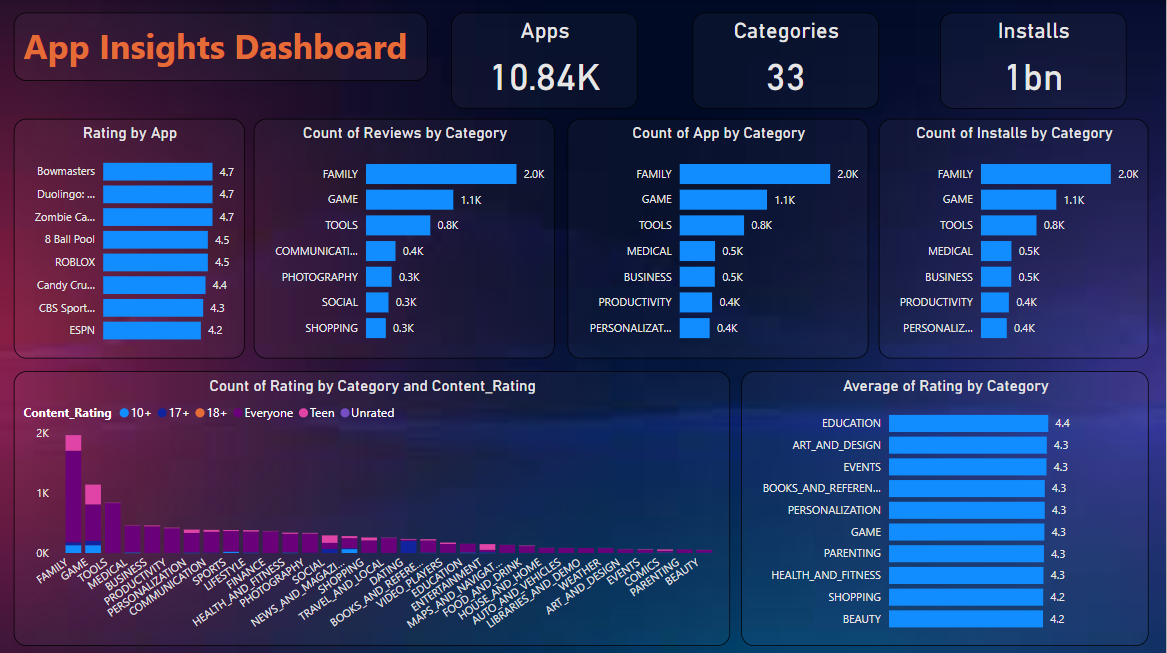

Layout of this report page (visuals, bound fields, positions):
{"tool":"powerbi","page":{"name":"Page 1","canvas":[1280,720],"ordinal":0},"visuals":[{"type":"clusteredBarChart","title":"Rating by App","fields":{"Y":["Avg(Sheet1.Rating)"],"Category":["Sheet1.App"]},"box":[15.1,130.4,253.9,229.2],"z":0},{"type":"clusteredBarChart","fields":{"Category":["Sheet1.Category"],"Y":["CountNonNull(Sheet1.App)"]},"box":[623,130.4,330.7,229.2],"z":1000},{"type":"clusteredBarChart","fields":{"Category":["Sheet1.Category"],"Y":["CountNonNull(Sheet1.Installs)"]},"box":[964.7,130.4,296.4,229.2],"z":2000},{"type":"clusteredBarChart","fields":{"Category":["Sheet1.Category"],"Y":["CountNonNull(Sheet1.Reviews)"]},"box":[278.6,130.4,330.7,229.2],"z":3000},{"type":"columnChart","fields":{"Category":["Sheet1.Category"],"Y":["CountNonNull(Sheet1.Rating)"],"Series":["Sheet1.Content_Rating"]},"box":[15.1,374.6,786.3,334.8],"z":4000},{"type":"clusteredBarChart","fields":{"Category":["Sheet1.Category"],"Y":["Avg(Sheet1.Rating)"]},"box":[813.7,374.6,466.6,334.8],"z":5000},{"type":"textbox","box":[15.1,28.8,454.2,90.6],"z":6000},{"type":"card","title":"Apps","fields":{"Values":["CountNonNull(Sheet1.App)"]},"box":[495.4,13.7,204.5,105.7],"z":7000},{"type":"card","title":"Categories","fields":{"Values":["Count(Sheet1.Category)"]},"box":[760.2,13.7,204.5,105.7],"z":8000},{"type":"card","title":"Installs","fields":{"Values":["Max(Sheet1.Installs)"]},"box":[1031.9,13.7,204.5,105.7],"z":9000}]}

Visuals, with their boxes in screenshot pixels (x1, y1, x2, y2), scaled from the page's 1280x720 canvas onto the 1167x653 screenshot:
"Rating by App" clusteredBarChart: x1=14 y1=118 x2=245 y2=326
clusteredBarChart - Sheet1.Category x CountNonNull(Sheet1.App): x1=568 y1=118 x2=870 y2=326
clusteredBarChart - Sheet1.Category x CountNonNull(Sheet1.Installs): x1=880 y1=118 x2=1150 y2=326
clusteredBarChart - Sheet1.Category x CountNonNull(Sheet1.Reviews): x1=254 y1=118 x2=556 y2=326
columnChart - Sheet1.Category x CountNonNull(Sheet1.Rating): x1=14 y1=340 x2=731 y2=643
clusteredBarChart - Sheet1.Category x Avg(Sheet1.Rating): x1=742 y1=340 x2=1166 y2=643
textbox: x1=14 y1=26 x2=428 y2=108
"Apps" card: x1=452 y1=12 x2=638 y2=108
"Categories" card: x1=693 y1=12 x2=880 y2=108
"Installs" card: x1=941 y1=12 x2=1127 y2=108
